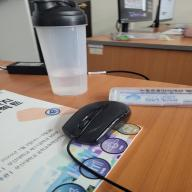mouse: (61, 98, 131, 146)
